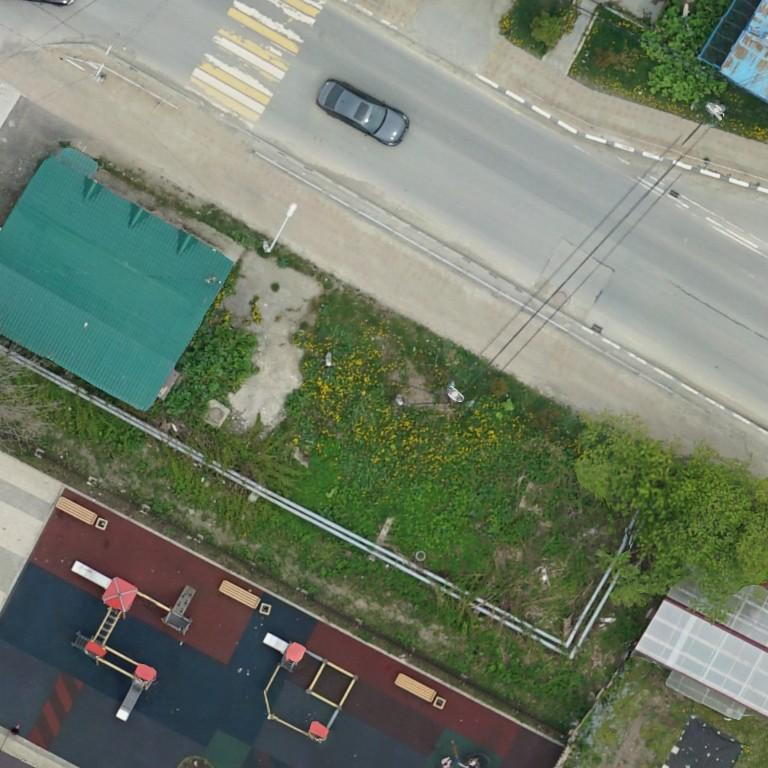hogweed: (165, 306, 258, 432), (114, 421, 146, 450), (285, 390, 309, 417)
